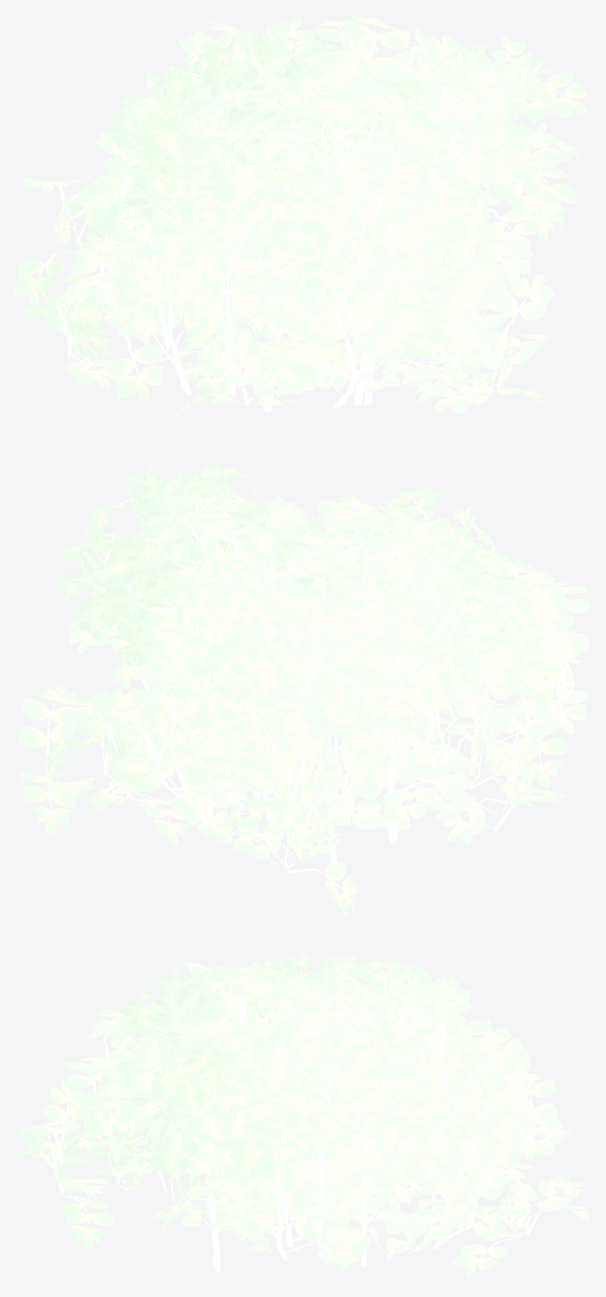
3 views of the same model, one above another, from view 1: azimuth 30°, elevation 25°; view 2: azimuth 150°, elevation 25°; view 3: azimuth 270°, elevation 25° (orthographic). The views are drawn at different scales.
Parts seen in each view (by area): view 1: SM_BM_Medium_Bush_01_A_LOD0; view 2: SM_BM_Medium_Bush_01_A_LOD0; view 3: SM_BM_Medium_Bush_01_A_LOD0.
Part boxes in pixels (bbox=[...]): SM_BM_Medium_Bush_01_A_LOD0: bbox=[14, 15, 587, 425]; SM_BM_Medium_Bush_01_A_LOD0: bbox=[18, 464, 590, 917]; SM_BM_Medium_Bush_01_A_LOD0: bbox=[15, 949, 590, 1276].
Size of the model in its own units: 1.74 by 1.08 by 2.03.
Materials: 1 (1 with a texture image).
